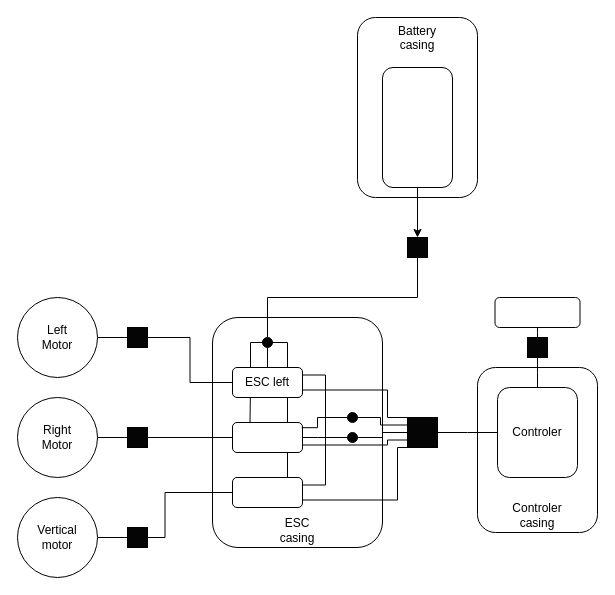
The diagram is 615 pixels wide and 595 high, and some of its shapes have lost their labels. The shapes that lost their labels are listed below. From the top down, each one's centre as x and y in pixels, then its label:
At point (417, 127): "Battery".
At point (537, 312): "Wifi Antenna".
At point (267, 437): "ESC right".
At point (267, 492): "ESC vertical".
